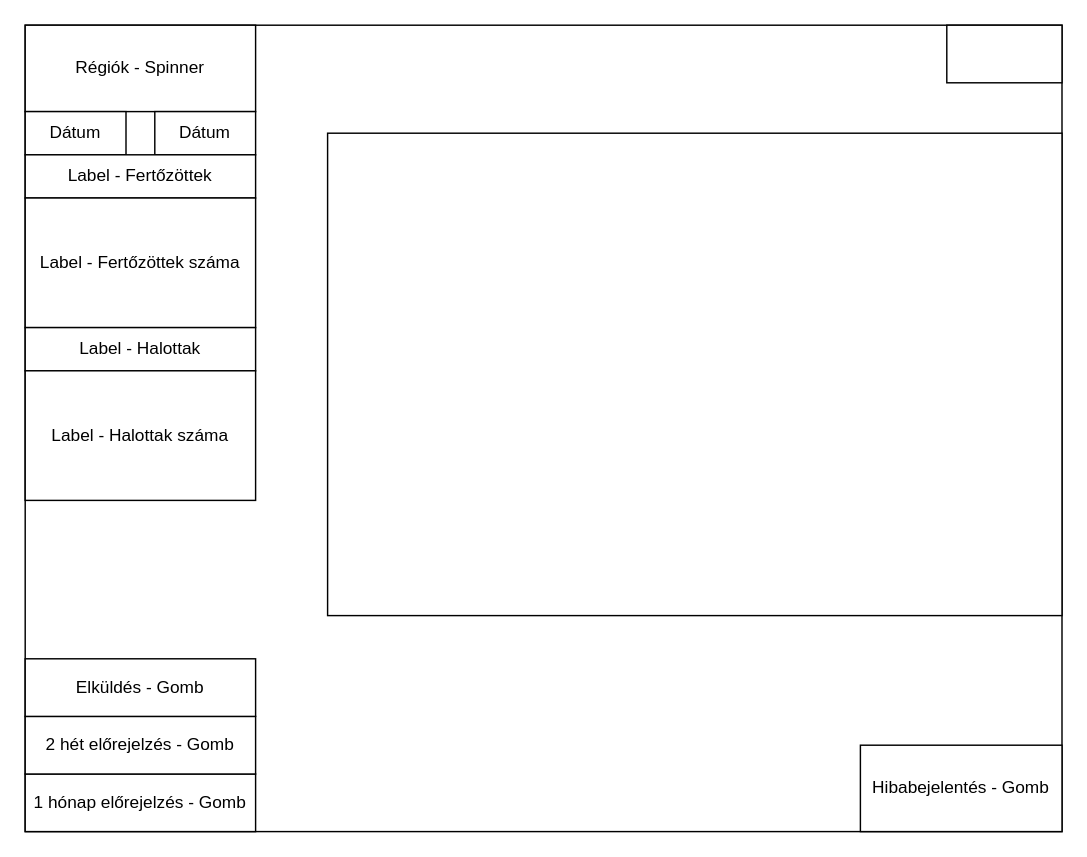
Some shapes in this 1087 by 857 pixel diagram are drawn without their labels. Each missing label, with the centre of its shape:
"Frissítés -Gomb" belongs at point 1003,53.
"Kép" belongs at point 694,374.
